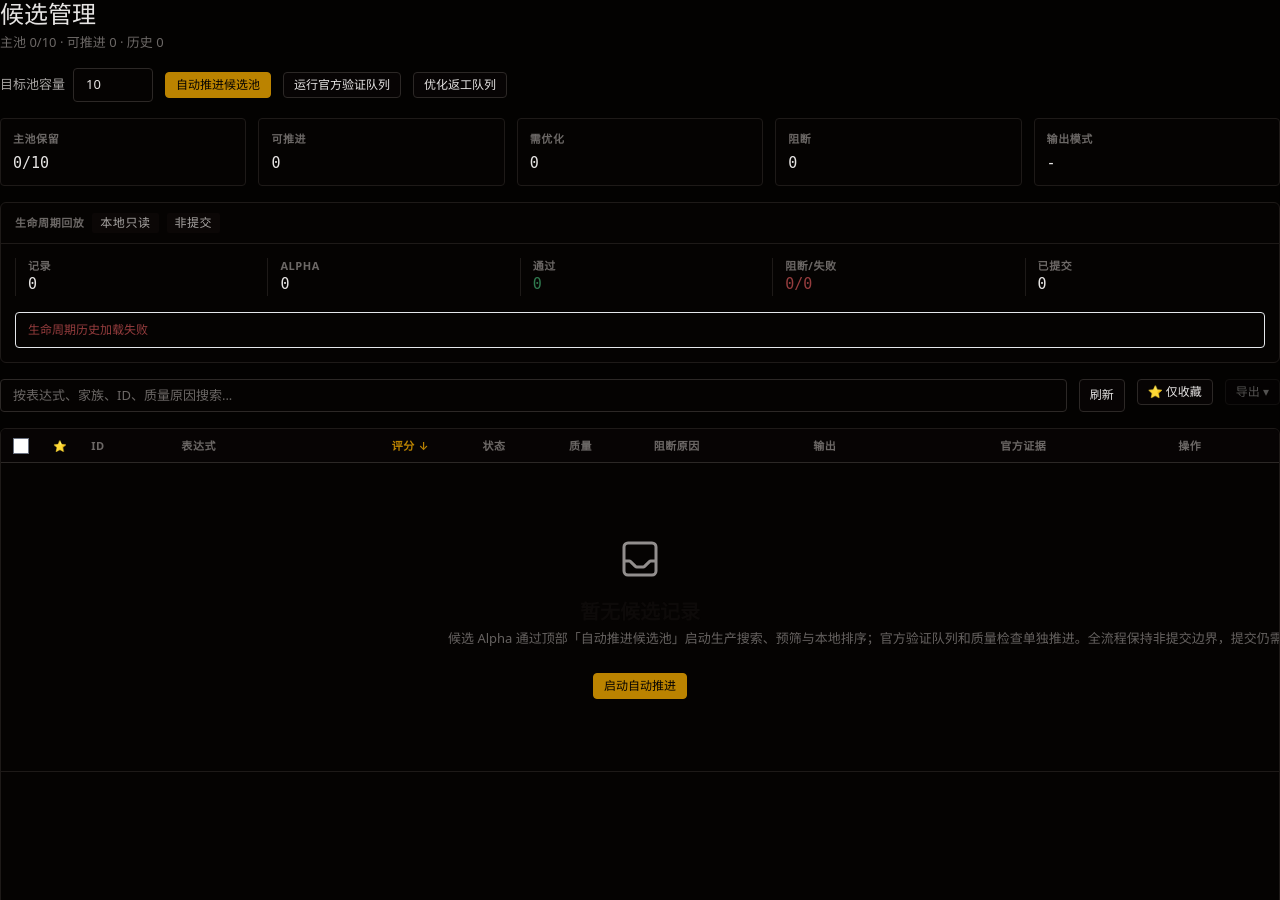
CandidateTable › does not claim candidate generation stopped when backend cancellation is unconfirmed
Click the button "自动推进候选池".
click(218, 85)  # box [165,72,271,98]
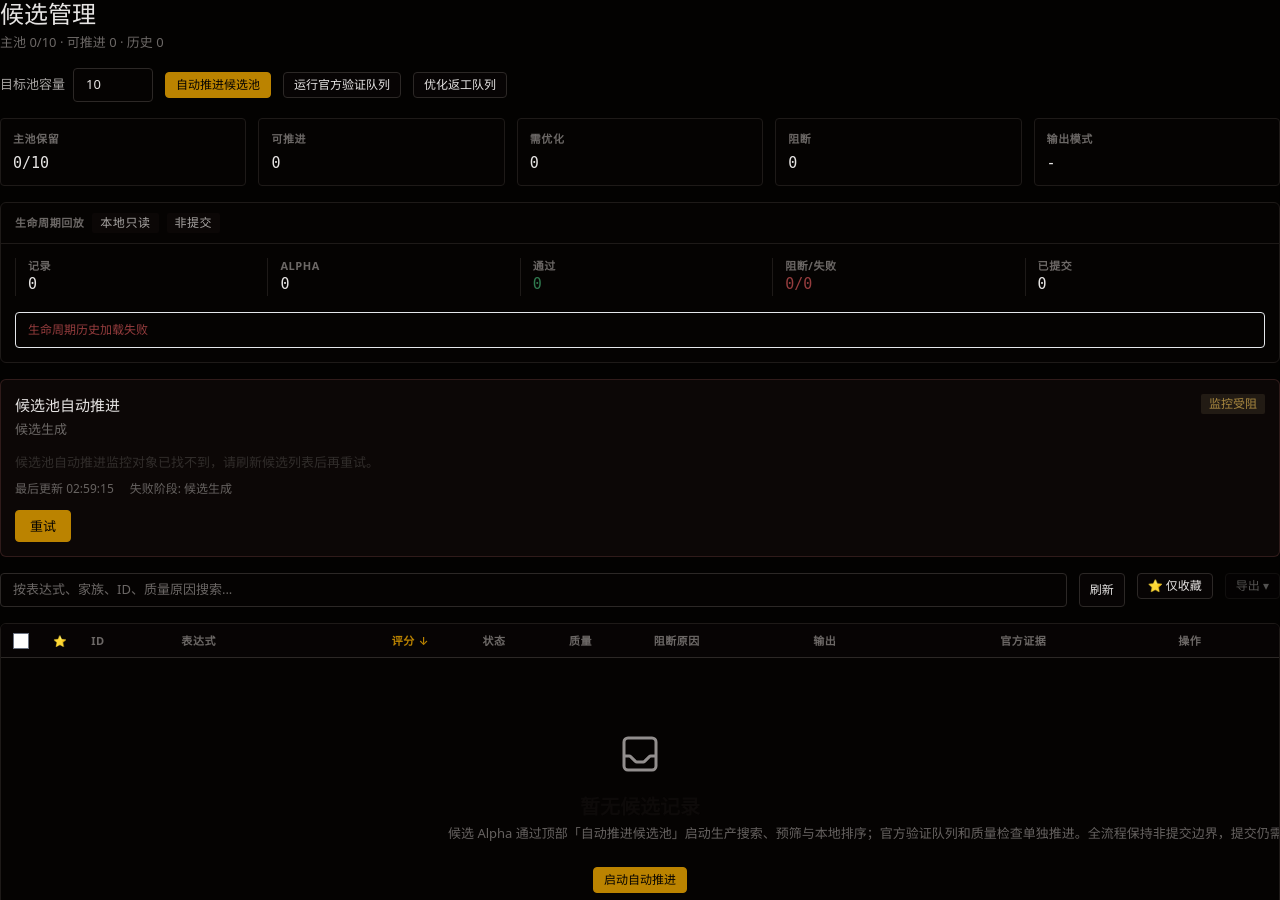
Now the text "候选池自动推进监控对象已找不到，请刷新候选列表后再重试。" is shown, box [15,452,379,472]
Now the text "监控受阻" is shown, box [1201,394,1265,414]
